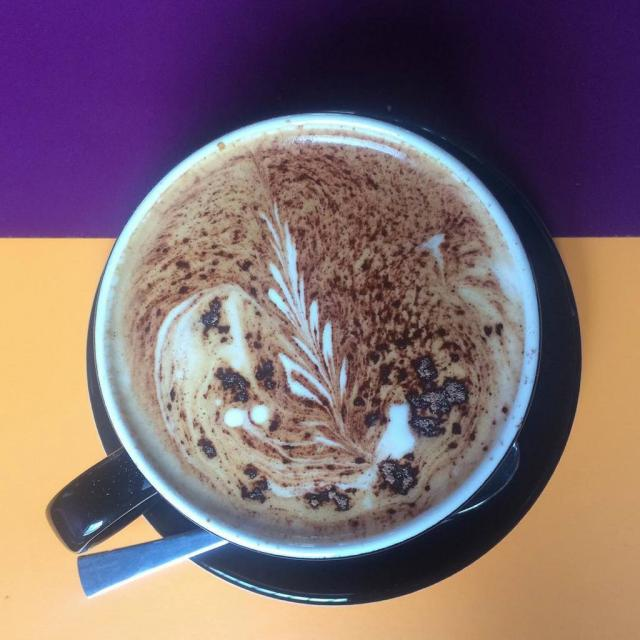Coffee: (71, 133, 574, 613)
